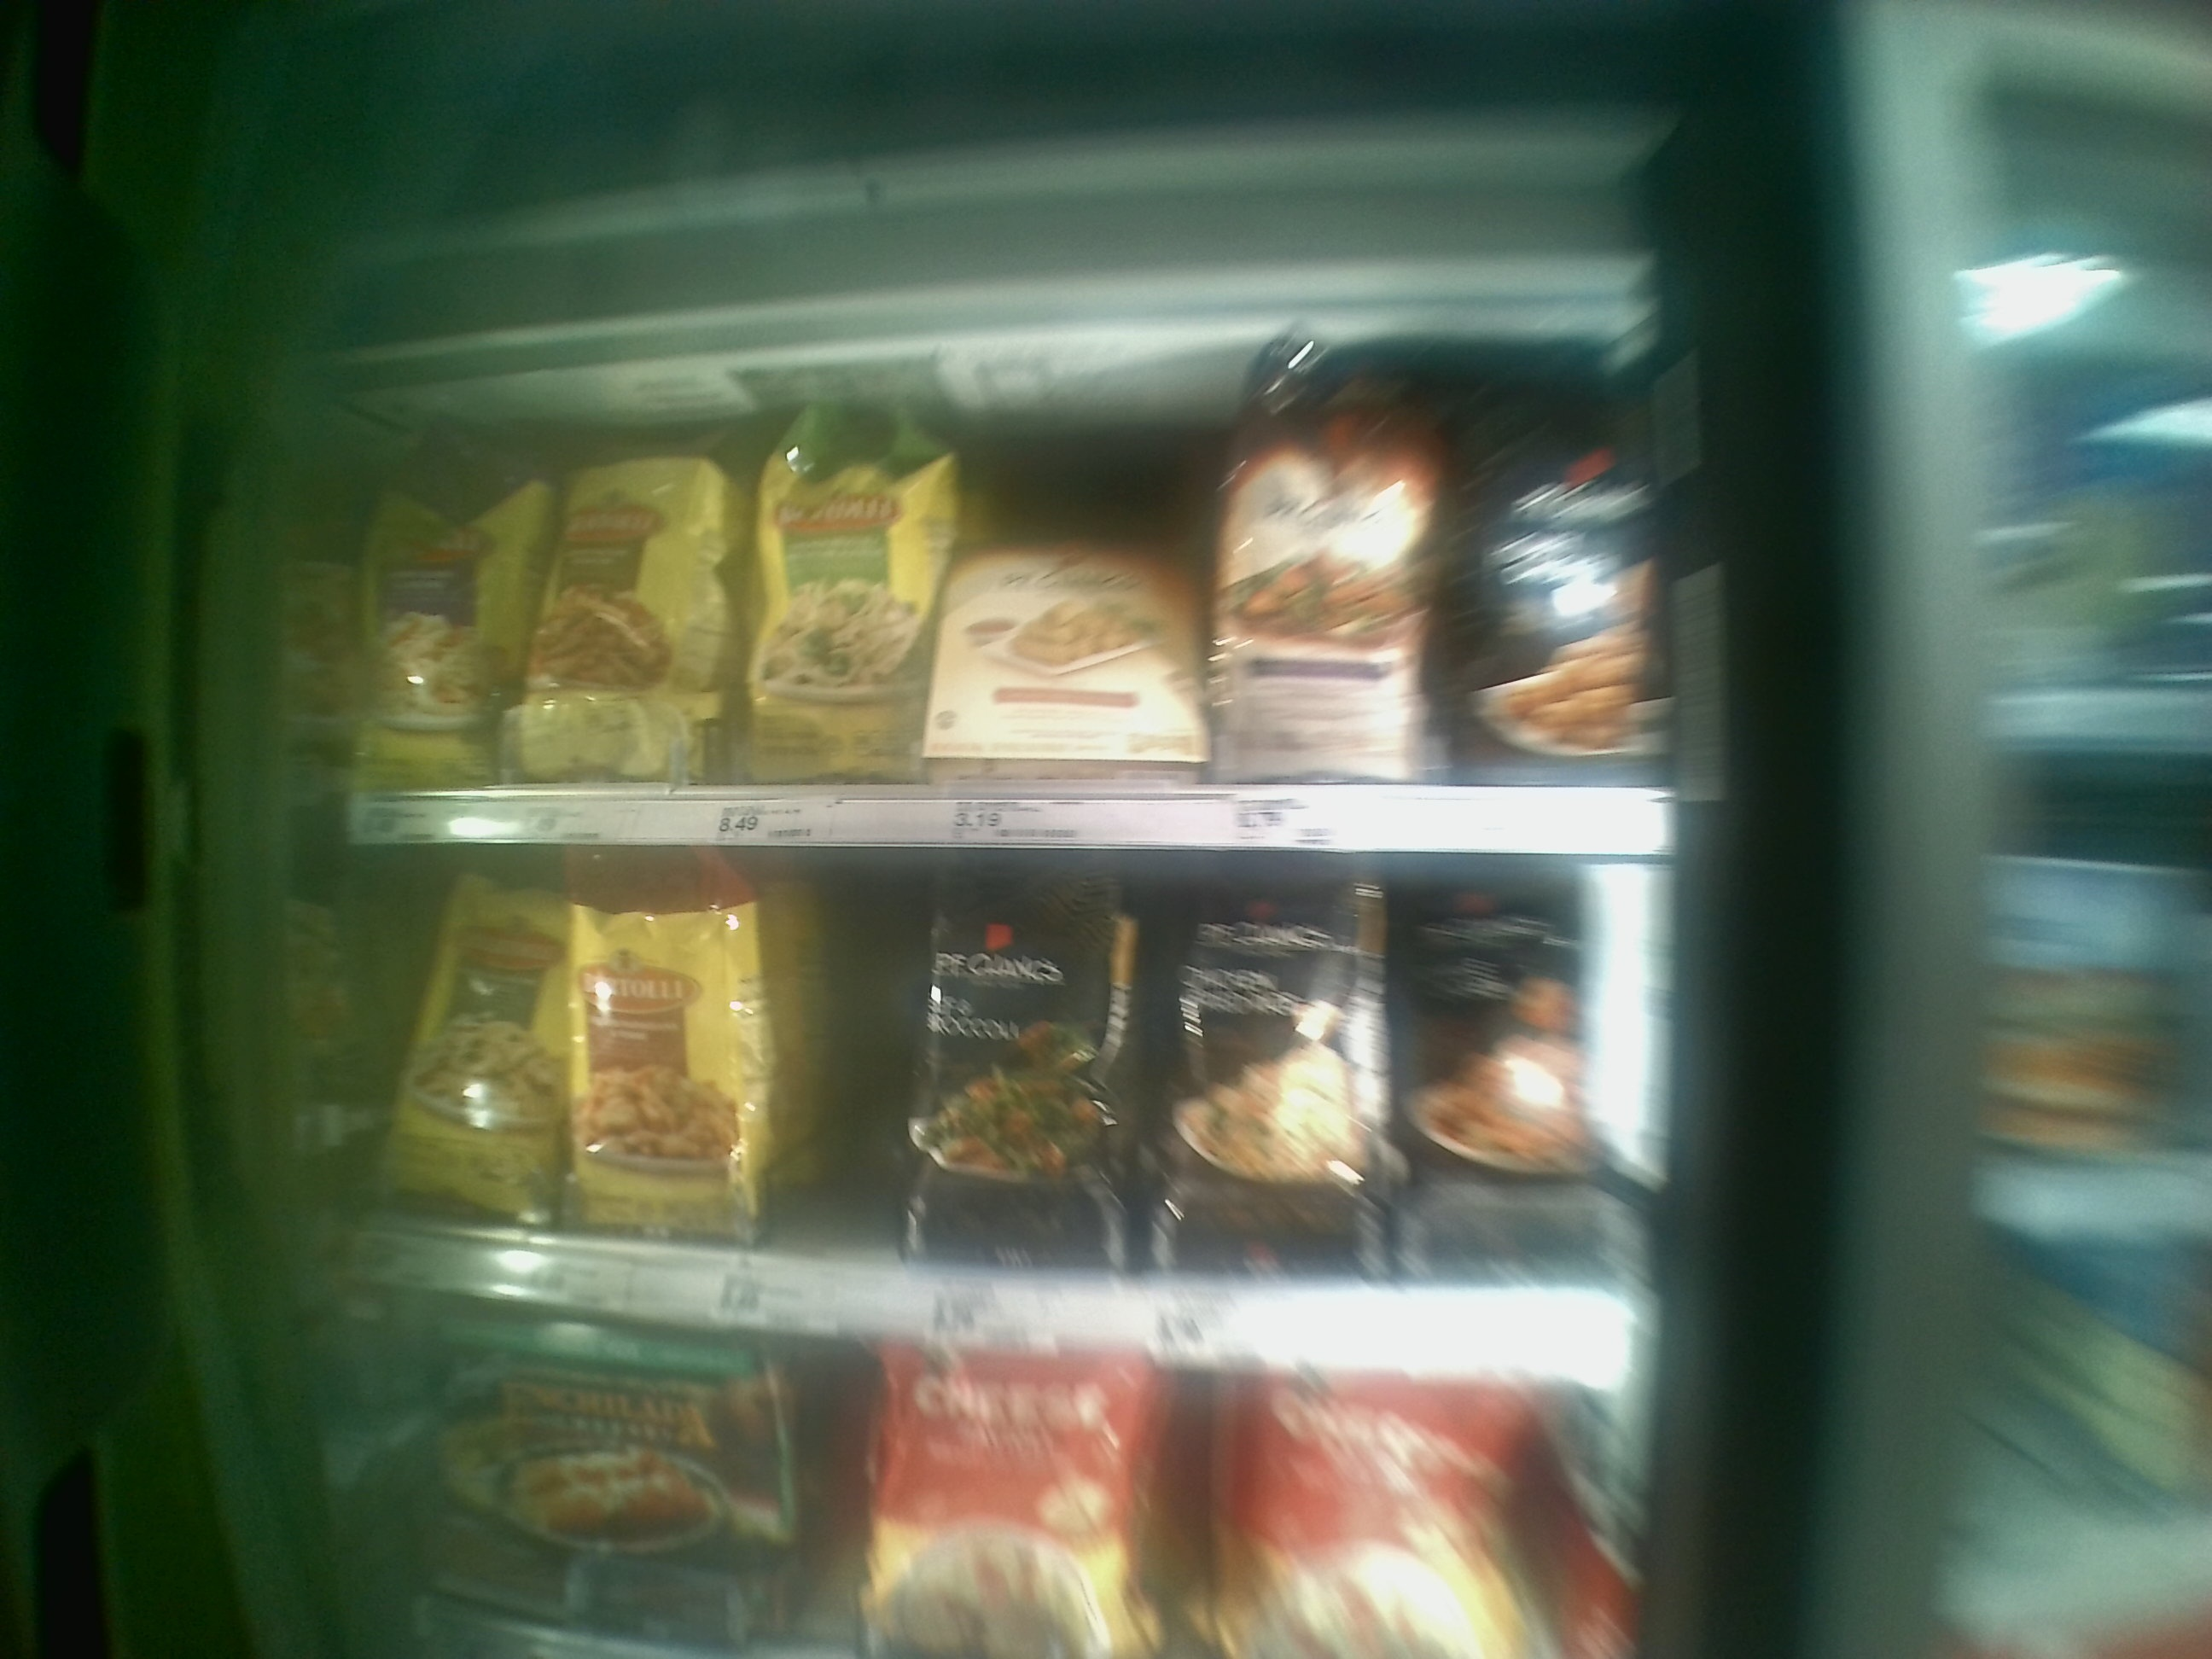shelf: (359, 842, 1658, 1378), (334, 331, 1672, 847)
